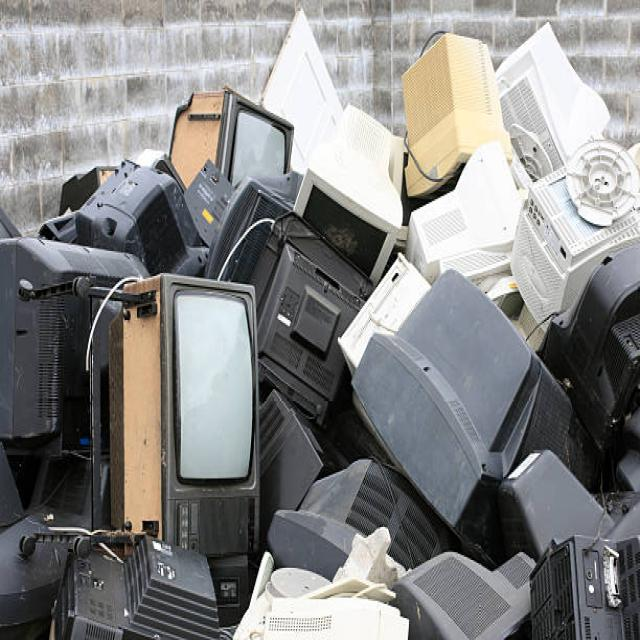metal: (3, 36, 630, 629)
